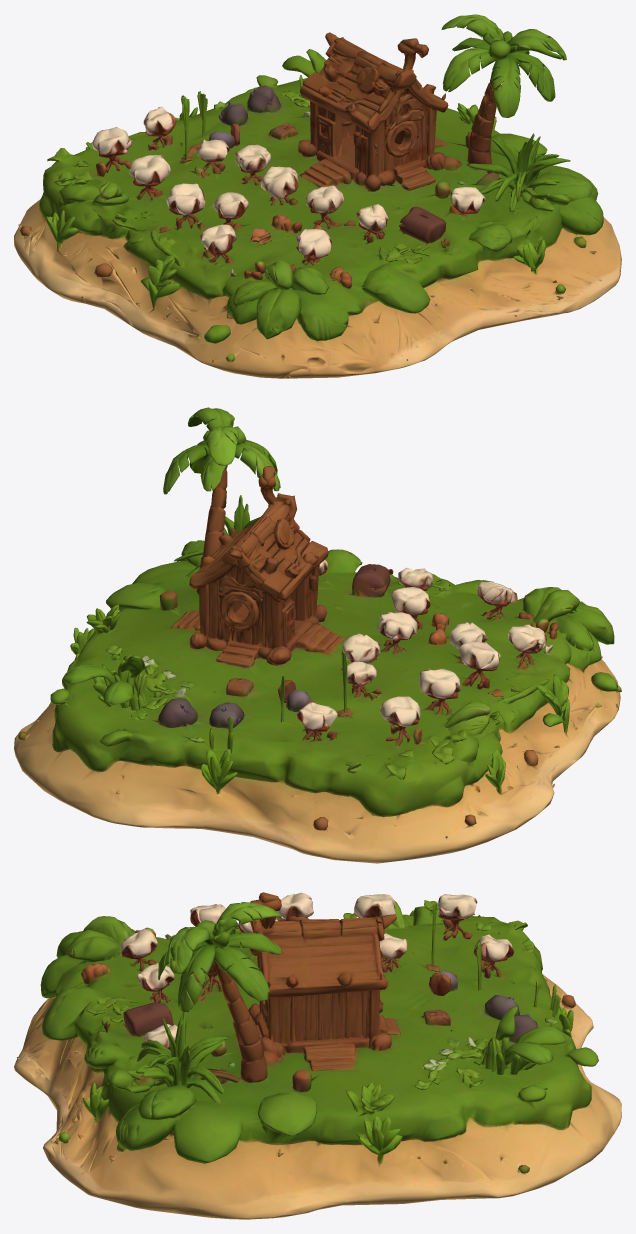
Rendered from isla-lona.glb.
3 renders of one model, top to bottom at view 1: azimuth 30°, elevation 25°; view 2: azimuth 150°, elevation 25°; view 3: azimuth 270°, elevation 25°, orthographic. The views are drawn at different scales.
Size of the model in its own units: 0.9781 by 0.4609 by 0.9793.
1 material, 1 textured.
